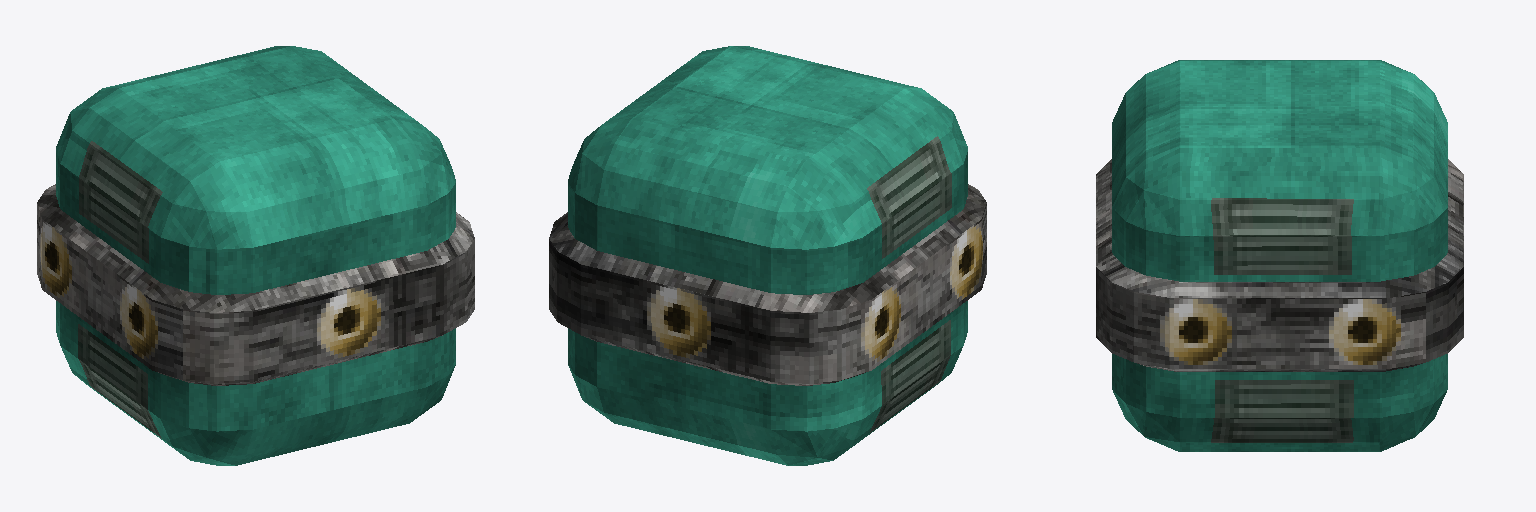
3 views of the same model, side by side, from view 1: azimuth 30°, elevation 25°; view 2: azimuth 150°, elevation 25°; view 3: azimuth 270°, elevation 25° (orthographic).
Visible parts, largest first — view 1: cube; view 2: cube; view 3: cube.
Boxes of the visible parts, box(x1,y1,x2,y2) form: cube: box(37, 46, 474, 465); cube: box(549, 46, 986, 465); cube: box(1096, 60, 1463, 451).
Size of the model in its own units: 2.18 by 2 by 2.18.
1 materials, 1 textured.